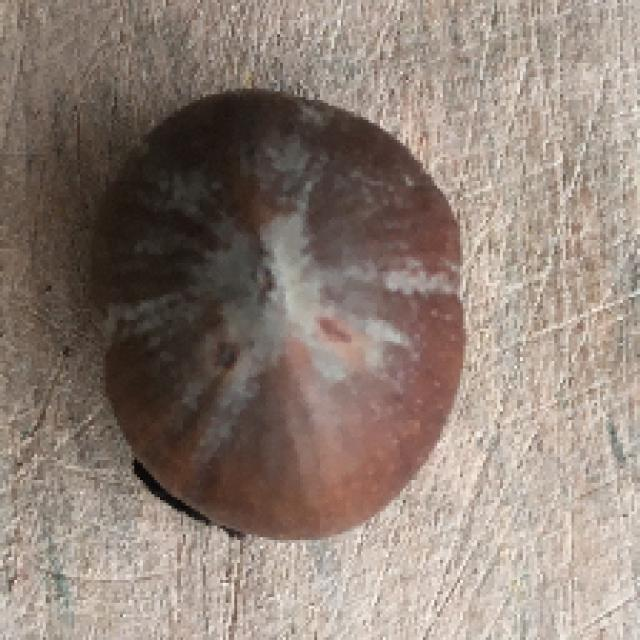damagedHazelnut: (85, 73, 474, 550)
